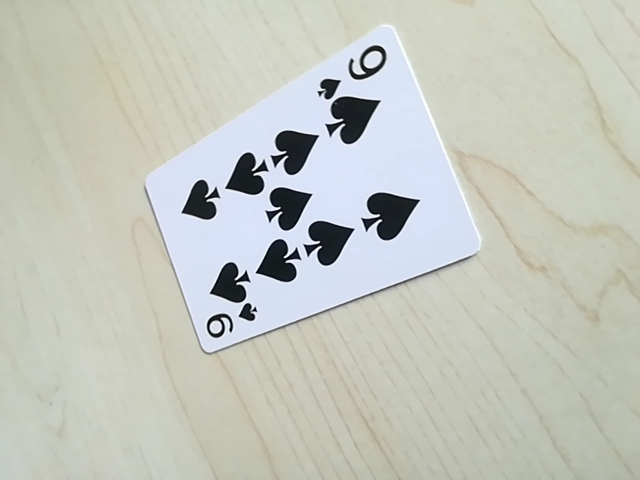ht 9: (319, 38, 397, 95), (198, 303, 257, 352)
